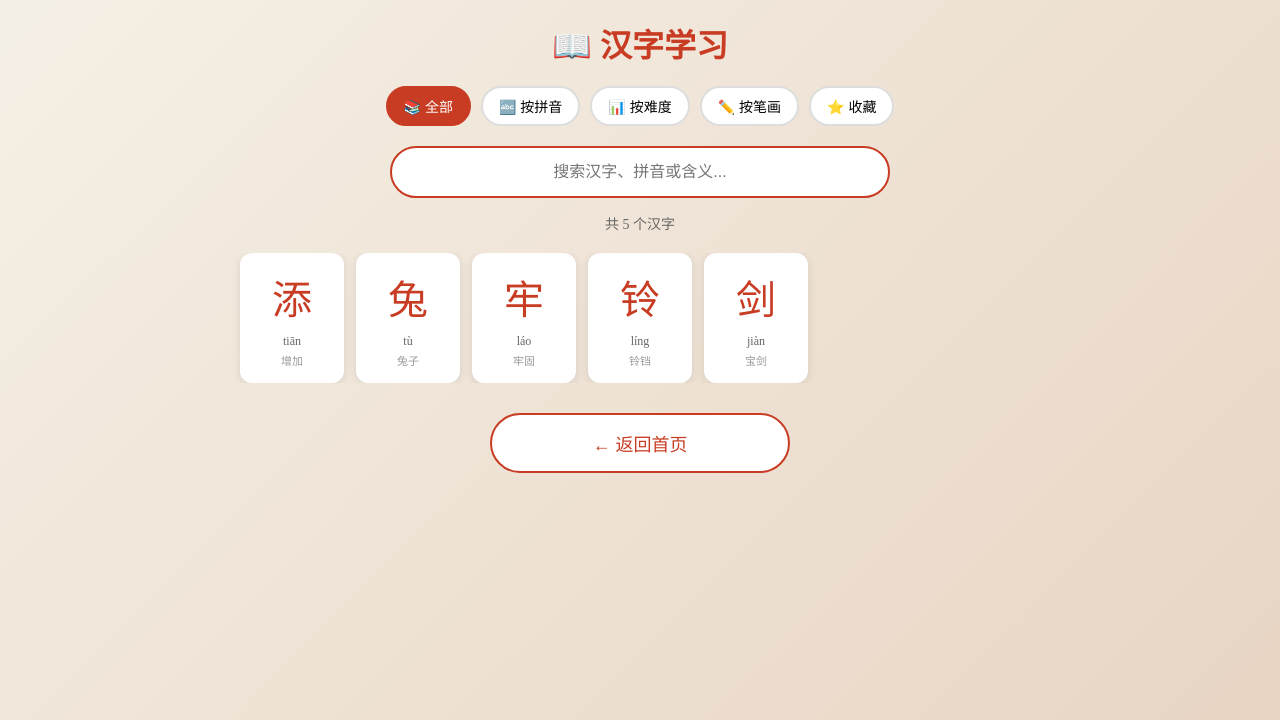
Test: Learn page › Search functionality › should show empty state when no results
The image size is (1280, 720).
Type "不存在" into the field with placeholder "搜索汉字、拼音或含义...".
click(640, 172); type("不存在")  # box top-left (390, 146), bottom-right (890, 198)
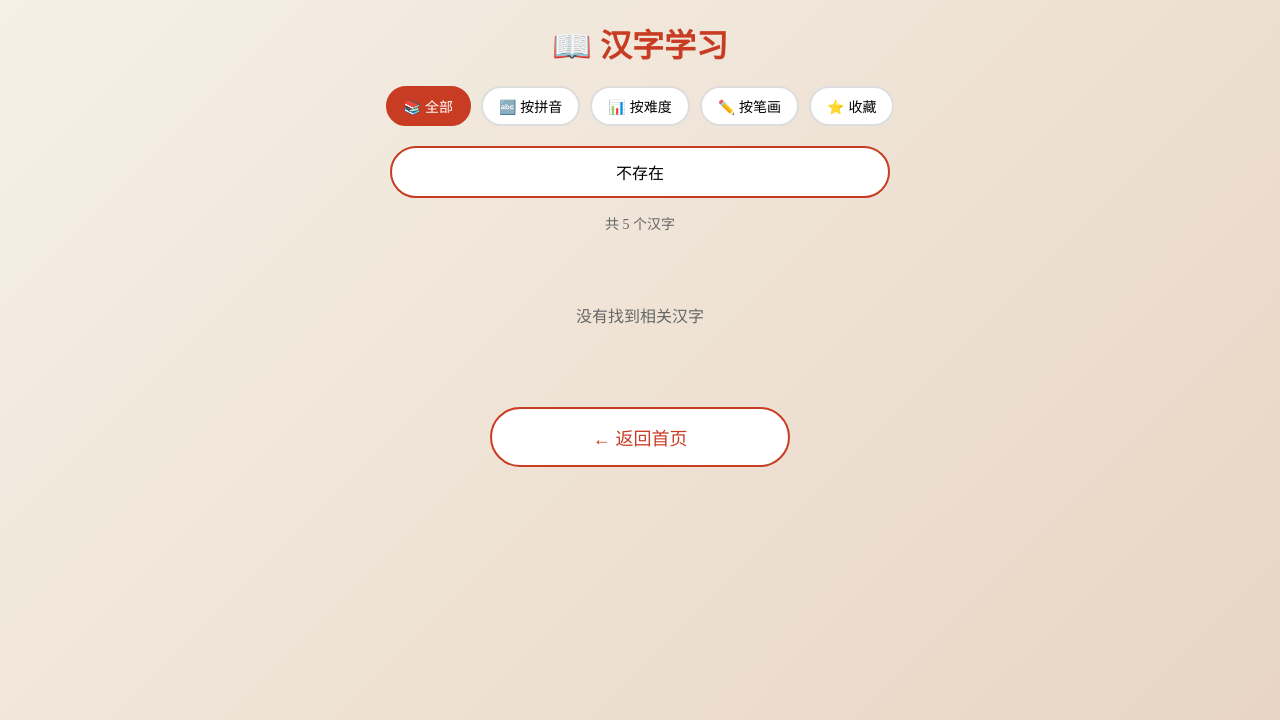
Now the text "没有找到相关汉字" is shown, box top-left (576, 308), bottom-right (704, 325)
